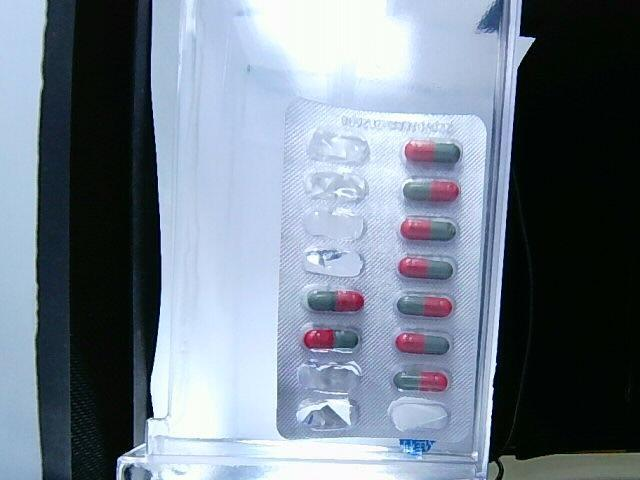Light Front: (275, 99, 487, 445)
No Pill Front: (296, 393, 356, 432), (308, 129, 369, 164), (298, 360, 361, 393), (389, 398, 449, 432), (306, 171, 367, 201), (304, 210, 364, 240), (305, 248, 363, 277)
Pill Front: (301, 286, 364, 316), (403, 138, 463, 169), (300, 324, 360, 352), (396, 291, 453, 316), (400, 216, 457, 241), (398, 255, 455, 279), (395, 330, 450, 354), (404, 179, 459, 202), (394, 370, 449, 391)
